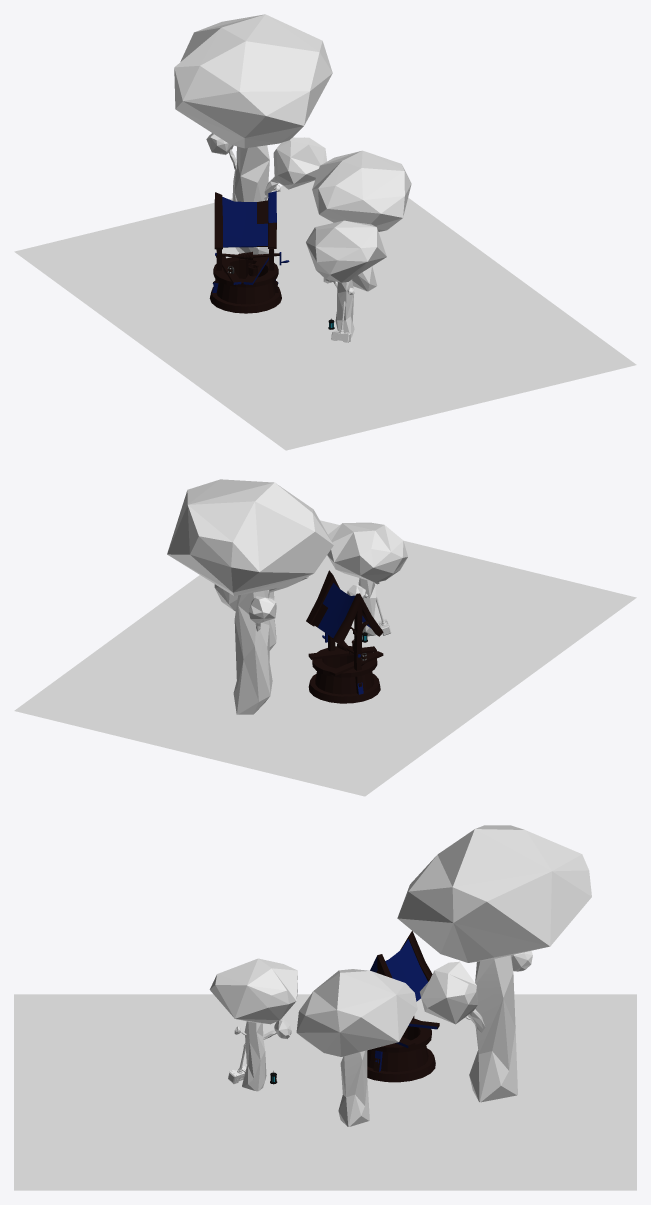
Rendered from SCENE FOREST TEST.fbx.
The picture shows the model from 3 angles, top to bottom: view 1: azimuth 30°, elevation 25°; view 2: azimuth 150°, elevation 25°; view 3: azimuth 270°, elevation 25°; orthographic projection. The views are drawn at different scales.
Parts seen in each view (by area): view 1: Plane001, Box002, WELL_BASE_MESH001, Box009, Box005, Box003, Cylinder002, Cylinder005; view 2: Plane001, Box002, WELL_BASE_MESH001, Box005, Cylinder002, Box004, Cylinder005; view 3: Plane001, Box002, Box009, Cylinder002, WELL_BASE_MESH001, Box005, Box003, Cylinder009, Cylinder005.
Boxes of the visible parts, x1,y1,x2,y2 form: Plane001: [14, 180, 636, 450]; Box002: [174, 14, 332, 148]; WELL_BASE_MESH001: [209, 191, 289, 313]; Box009: [312, 150, 411, 231]; Box005: [306, 220, 386, 282]; Box003: [273, 137, 327, 189]; Cylinder002: [232, 145, 275, 254]; Cylinder005: [335, 279, 354, 337]; Plane001: [14, 520, 636, 796]; Box002: [167, 479, 333, 595]; WELL_BASE_MESH001: [306, 570, 383, 703]; Box005: [327, 522, 407, 582]; Cylinder002: [233, 590, 272, 714]; Box004: [249, 596, 276, 623]; Cylinder005: [358, 578, 376, 636]; Plane001: [14, 994, 636, 1190]; Box002: [397, 825, 591, 962]; Box009: [296, 969, 417, 1056]; Cylinder002: [469, 955, 517, 1102]; WELL_BASE_MESH001: [367, 931, 439, 1082]; Box005: [209, 958, 297, 1024]; Box003: [420, 961, 477, 1024]; Cylinder009: [338, 1050, 369, 1126]; Cylinder005: [242, 1021, 266, 1091].
Size of the model in its own units: 83.06 by 50.8 by 111.
